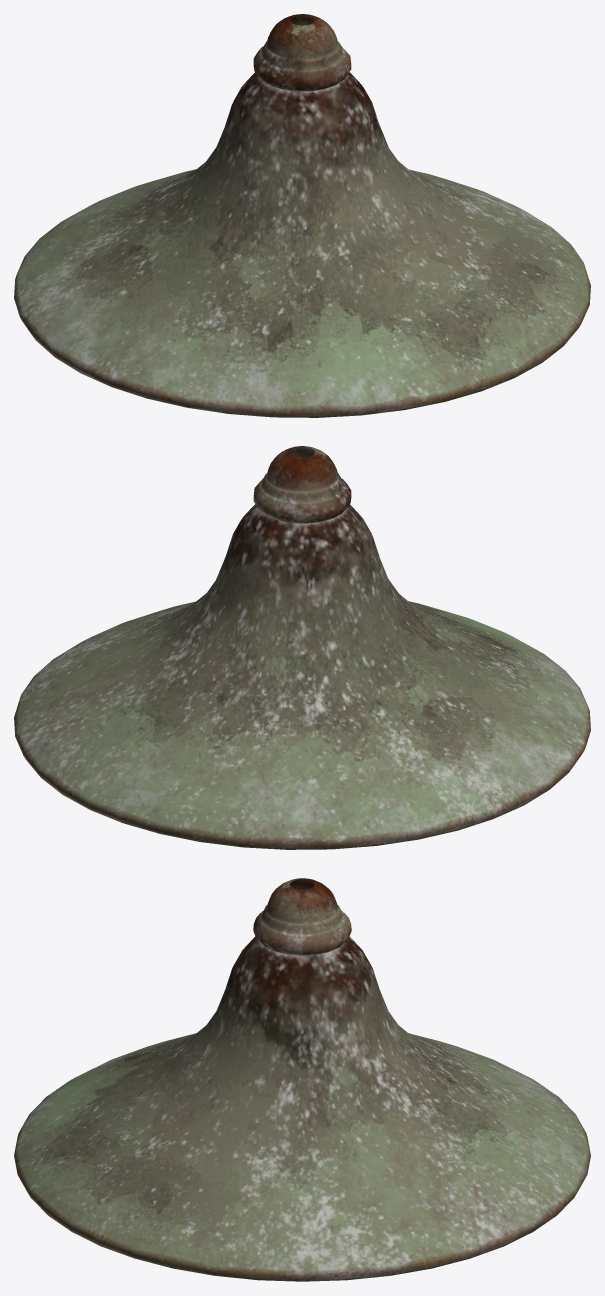
File: Focoder.obj
The picture shows the model from 3 angles, top to bottom: view 1: azimuth 30°, elevation 25°; view 2: azimuth 150°, elevation 25°; view 3: azimuth 270°, elevation 25°; orthographic projection.
Parts seen in each view (by area): view 1: defaultMaterial.005; view 2: defaultMaterial.005; view 3: defaultMaterial.005.
Boxes of the visible parts, x1,y1,x2,y2 form: defaultMaterial.005: (14,14,590,417); defaultMaterial.005: (14,446,590,849); defaultMaterial.005: (14,878,590,1281).
Bounding box in the file's own units: 1.54 × 0.8167 × 1.54.
